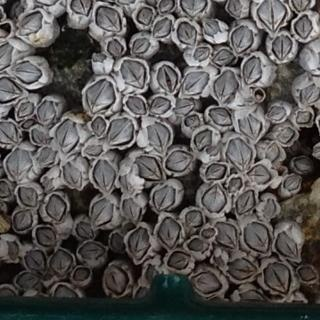Barnacle: (86, 79, 115, 114), (224, 137, 252, 172), (6, 148, 34, 182), (263, 262, 292, 294), (257, 0, 286, 32), (213, 69, 237, 103), (244, 223, 270, 254), (120, 59, 146, 90), (146, 123, 171, 154), (108, 117, 135, 145), (94, 160, 117, 192), (129, 227, 151, 260), (136, 156, 162, 183), (95, 6, 122, 32), (227, 257, 256, 281), (201, 185, 225, 214), (13, 60, 42, 84), (157, 217, 180, 247), (153, 183, 176, 212), (106, 264, 127, 295), (55, 120, 76, 151), (49, 249, 73, 276), (181, 72, 209, 95), (156, 65, 179, 93), (91, 200, 114, 227), (238, 116, 264, 139), (0, 76, 23, 102), (216, 223, 238, 250), (46, 194, 67, 222), (164, 152, 192, 173), (20, 11, 44, 35), (175, 21, 198, 46), (276, 231, 298, 257), (193, 273, 220, 294), (235, 189, 256, 215), (232, 26, 253, 52), (244, 55, 262, 85), (121, 196, 142, 220), (208, 107, 233, 127), (79, 243, 105, 262), (17, 185, 38, 208), (63, 163, 83, 187), (13, 210, 34, 232), (54, 285, 81, 302), (181, 0, 205, 19), (273, 35, 291, 60), (35, 227, 57, 247), (299, 83, 319, 105), (248, 165, 271, 184), (37, 101, 55, 125), (295, 13, 312, 38), (25, 251, 46, 271), (212, 49, 234, 68), (184, 208, 204, 228), (194, 130, 212, 152), (0, 123, 18, 145), (16, 271, 39, 288), (0, 42, 13, 71), (127, 96, 146, 115), (153, 18, 171, 38), (70, 0, 94, 15), (38, 148, 56, 167), (175, 99, 196, 115), (76, 221, 94, 239), (170, 252, 189, 269), (267, 106, 288, 121), (144, 263, 158, 285), (187, 240, 209, 254), (119, 173, 135, 192), (206, 164, 225, 180), (150, 98, 170, 113), (277, 127, 295, 143), (133, 37, 151, 53), (137, 7, 153, 25), (204, 19, 219, 38), (6, 241, 20, 261), (91, 117, 105, 137), (267, 142, 281, 161), (193, 47, 212, 61), (263, 199, 276, 219), (108, 40, 124, 56), (112, 234, 125, 253), (284, 176, 300, 191), (18, 103, 34, 118), (228, 0, 242, 17), (294, 159, 310, 173), (72, 268, 89, 281), (296, 111, 313, 124), (83, 145, 103, 156), (31, 130, 45, 145), (298, 268, 314, 281), (159, 0, 175, 13), (292, 0, 309, 12), (228, 178, 243, 191), (42, 175, 54, 191), (0, 182, 11, 199), (201, 228, 214, 239), (186, 116, 199, 127), (92, 51, 106, 61), (21, 120, 35, 129), (208, 147, 217, 155)
